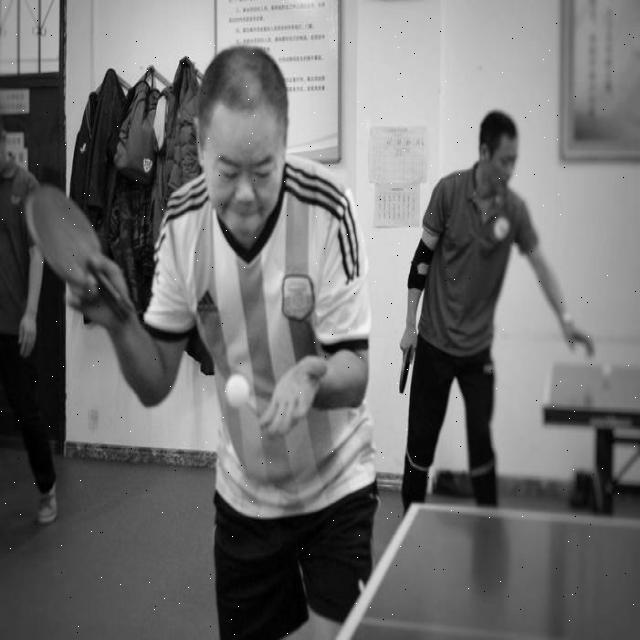ping-pong-ball: (224, 374, 249, 407)
